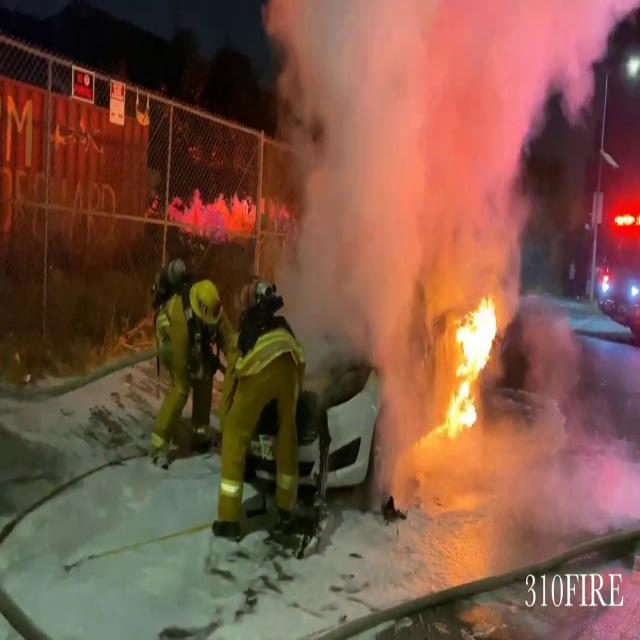Fire: (436, 288, 506, 436)
Smoke: (260, 0, 588, 308)
